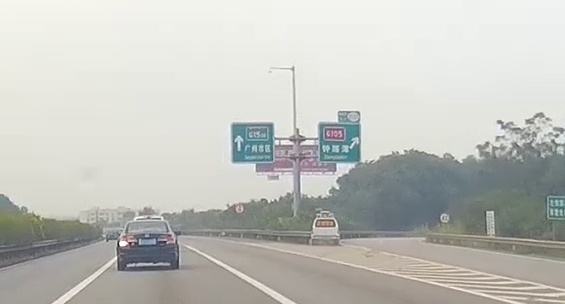L_light: (119, 236, 138, 246)
R_light: (157, 235, 176, 244)
T_light: (144, 222, 152, 224)
day-left: (117, 220, 179, 270)
